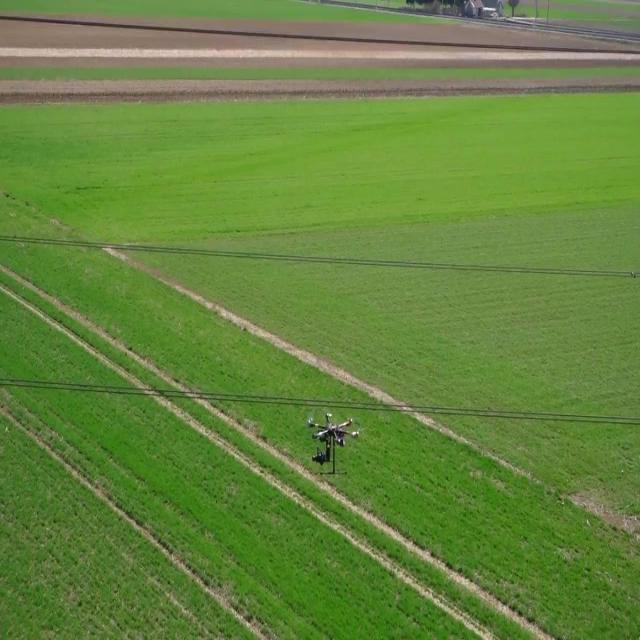drone: (307, 410, 361, 480)
